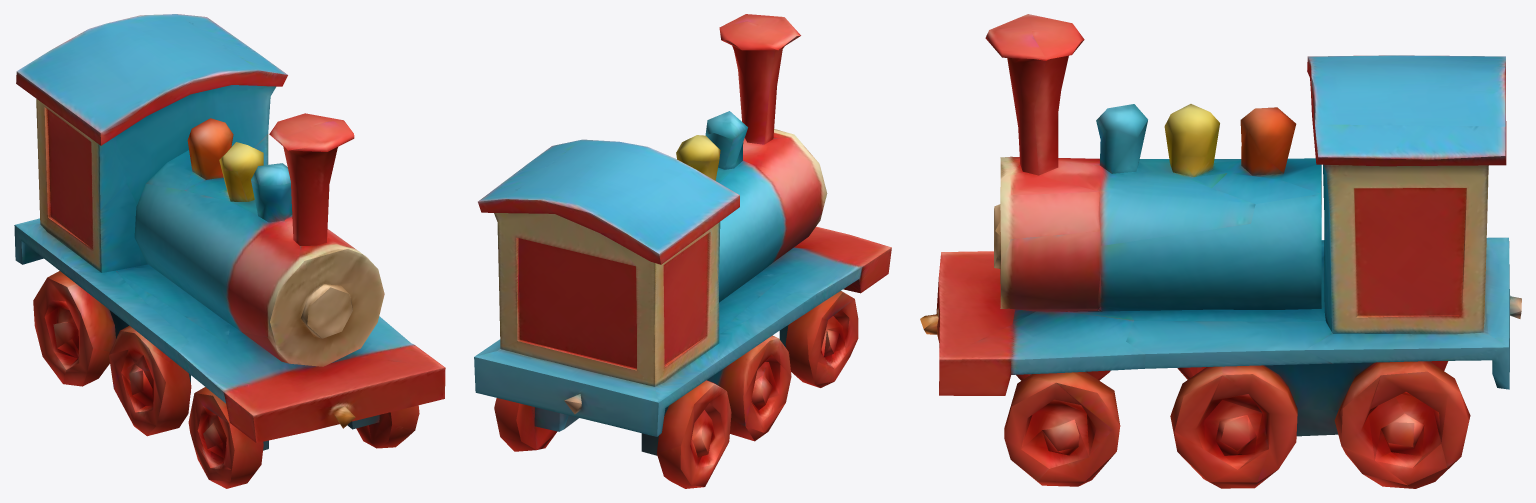
The model's file is toyTrain.glb.
The picture shows the model from 3 angles, left to right: view 1: azimuth 30°, elevation 25°; view 2: azimuth 150°, elevation 25°; view 3: azimuth 270°, elevation 25°; orthographic projection. The views are drawn at different scales.
Parts seen in each view (by area): view 1: model; view 2: model; view 3: model.
Part boxes in pixels (x1,y1,x2,y2): model: (14, 14, 445, 488); model: (474, 14, 891, 488); model: (920, 14, 1521, 488).
Size of the model in its own units: 0.8497 by 1.43 by 1.9.
1 material, 1 textured.
